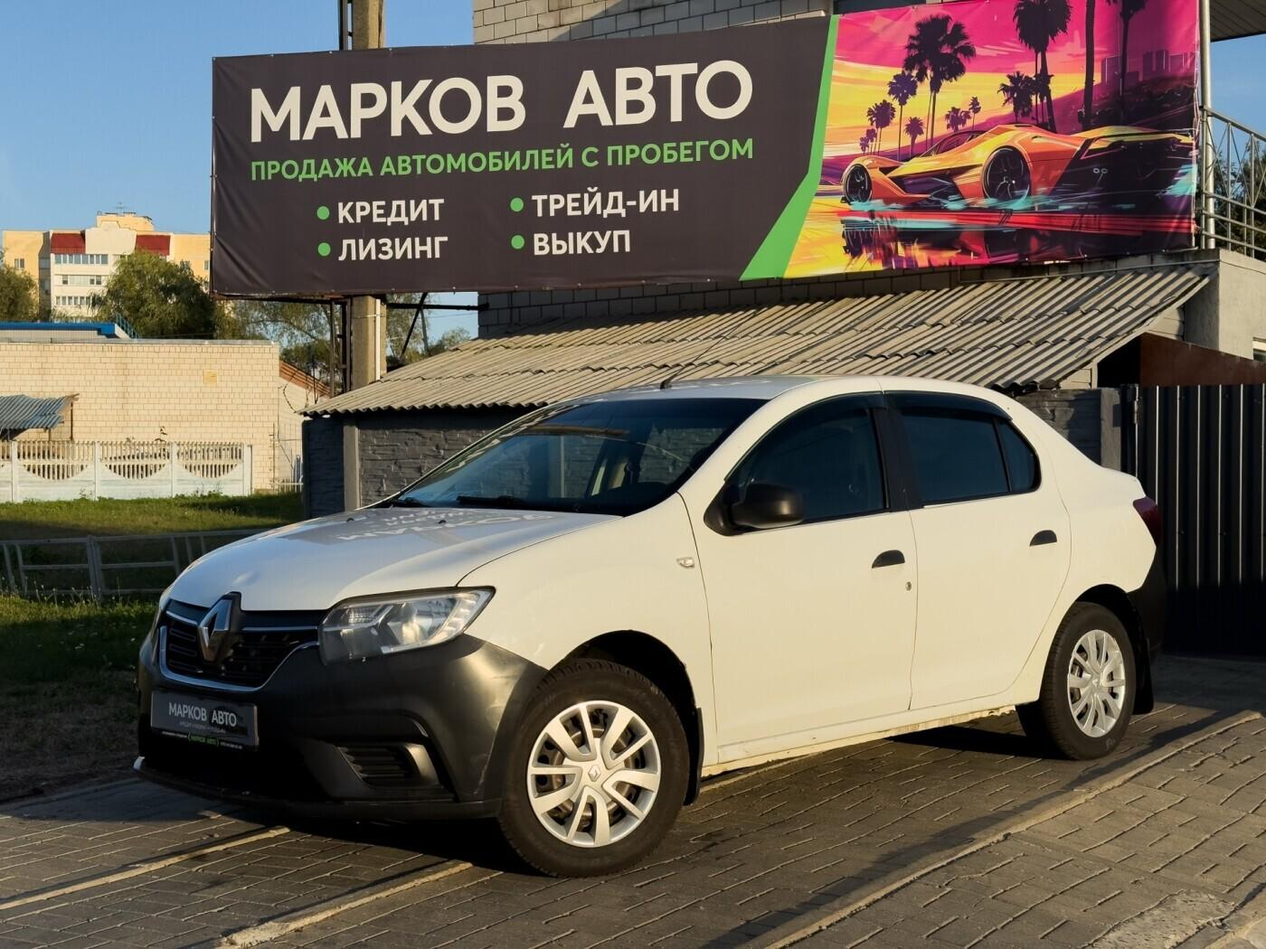Logan_2018: (128, 371, 1178, 856)
